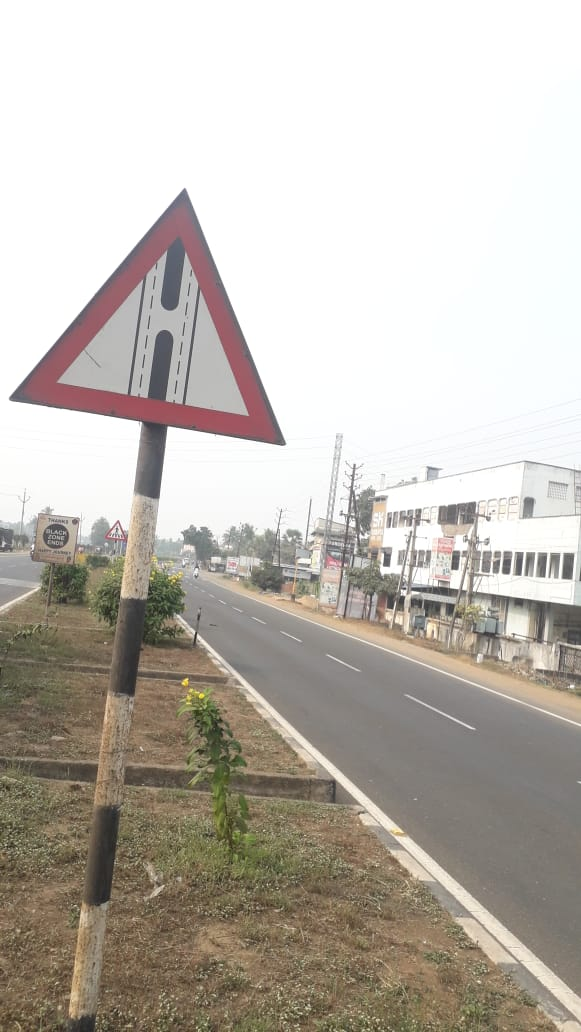highway go straight: (1, 182, 290, 537)
